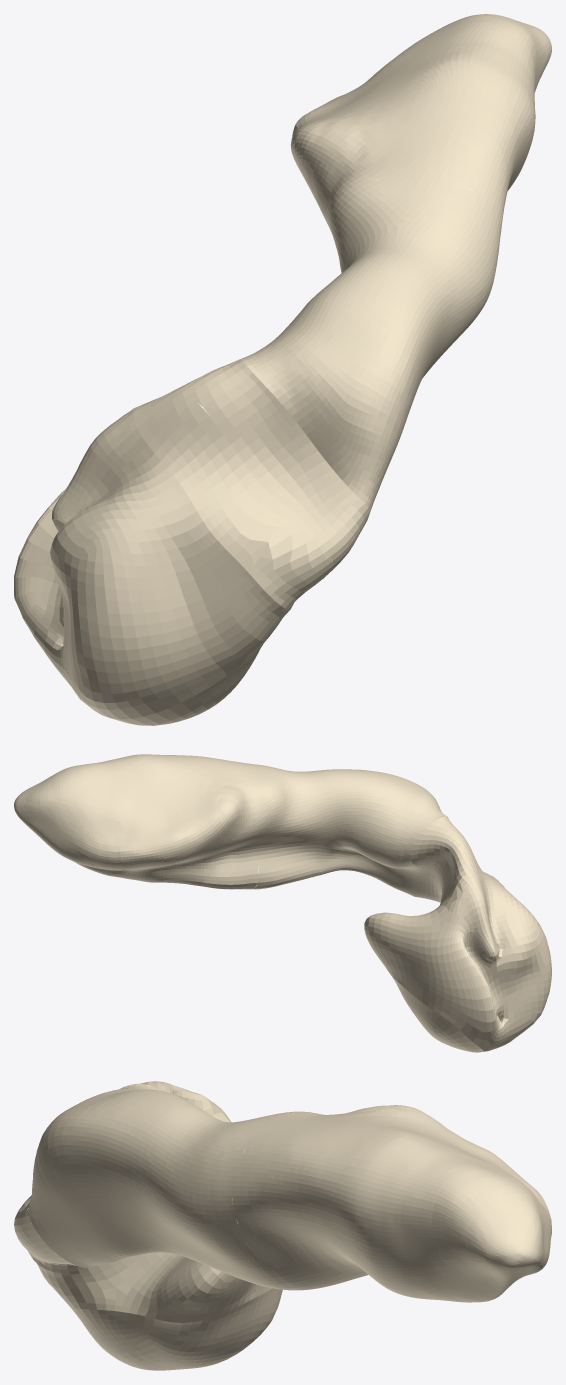
File: hra-pancreas.glb
3 renders of one model, top to bottom at view 1: azimuth 30°, elevation 25°; view 2: azimuth 150°, elevation 25°; view 3: azimuth 270°, elevation 25°, orthographic. The views are drawn at different scales.
Parts seen in each view (by area): view 1: VH_M_body_of_pancreas; view 2: VH_M_body_of_pancreas; view 3: VH_M_body_of_pancreas.
Part boxes in pixels (box(x1,y1,x2,y2)): VH_M_body_of_pancreas: box(14, 14, 551, 725); VH_M_body_of_pancreas: box(14, 754, 551, 1052); VH_M_body_of_pancreas: box(14, 1081, 551, 1370).
Bounding box in the file's own units: 0.1114 × 0.072 × 0.0836.
